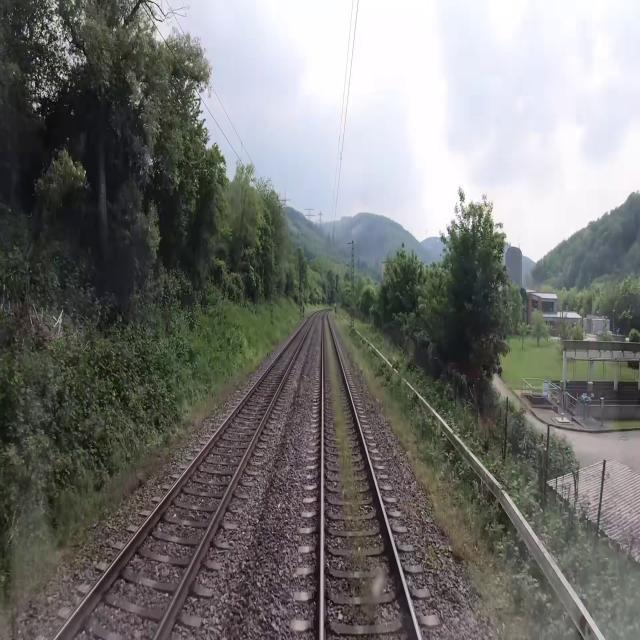Plant: (325, 319, 366, 575), (426, 543, 442, 571)
